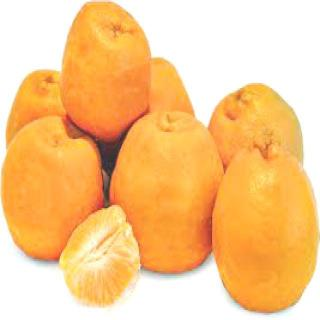orange: (209, 131, 319, 320), (110, 106, 222, 291), (0, 111, 104, 295), (49, 0, 164, 162), (48, 196, 140, 320)
